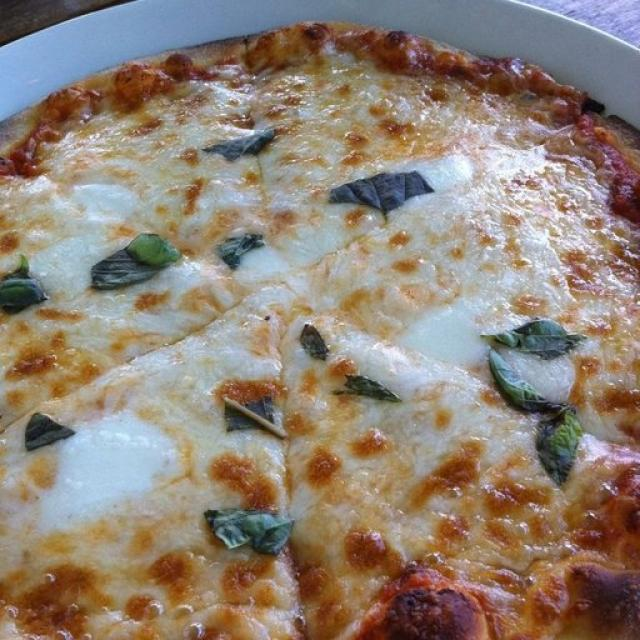Basil: (485, 351, 585, 484), (74, 228, 185, 301), (318, 166, 429, 217), (475, 310, 594, 354), (206, 499, 295, 552), (218, 386, 290, 440), (329, 364, 406, 413), (0, 254, 55, 316), (198, 125, 278, 163), (210, 224, 266, 275), (16, 409, 78, 451), (296, 319, 331, 366)
Cheese: (88, 385, 192, 572), (313, 435, 488, 545), (314, 230, 507, 326), (285, 72, 440, 154), (113, 309, 285, 372), (38, 136, 179, 206)
Pizza: (0, 24, 640, 640)
